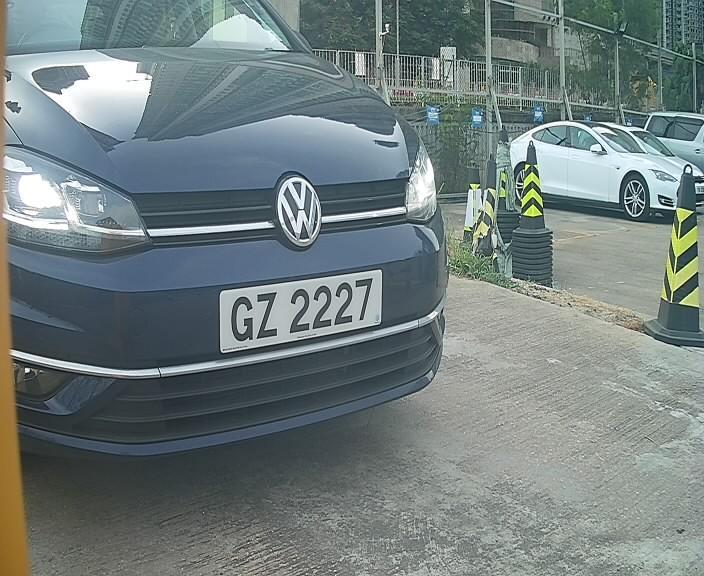License Plate: (208, 267, 386, 355)
